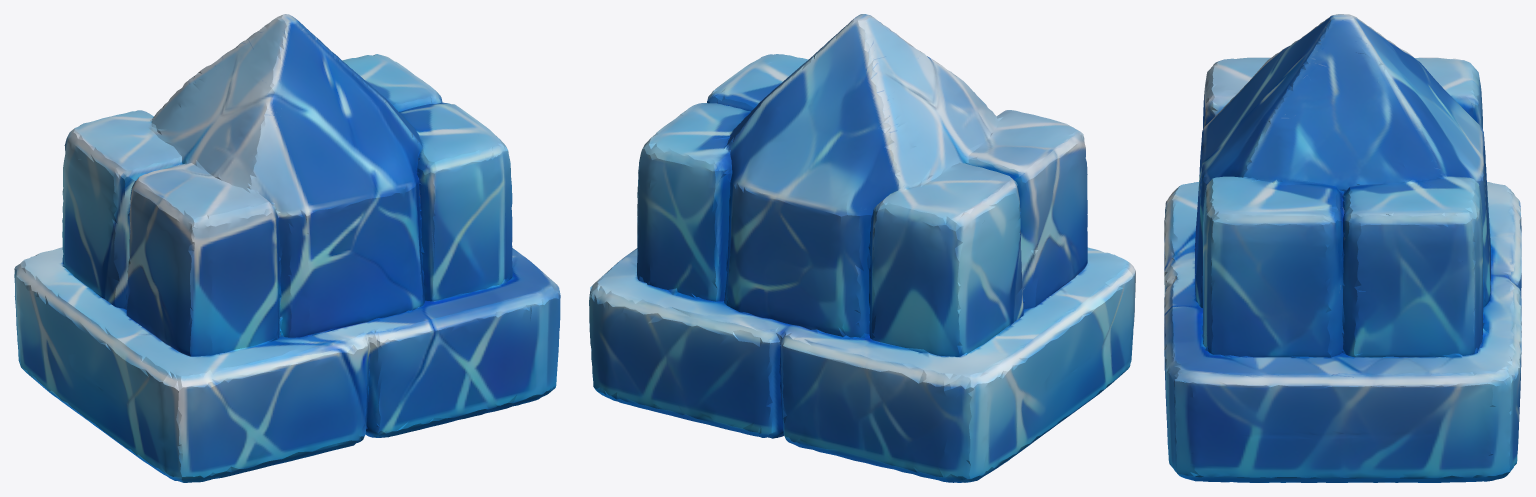
Rendered from Node_Titanium.glb.
The picture shows the model from 3 angles, left to right: view 1: azimuth 30°, elevation 25°; view 2: azimuth 150°, elevation 25°; view 3: azimuth 270°, elevation 25°; orthographic projection. The views are drawn at different scales.
Visible parts, largest first — view 1: Node_Titanium; view 2: Node_Titanium; view 3: Node_Titanium.
Part boxes in pixels (x1=…): Node_Titanium: x1=14, y1=14, x2=560, y2=482; Node_Titanium: x1=589, y1=14, x2=1135, y2=482; Node_Titanium: x1=1164, y1=14, x2=1521, y2=482.
Bounding box in the file's own units: 0.71 × 0.62 × 0.5319.
1 material, 1 textured.
